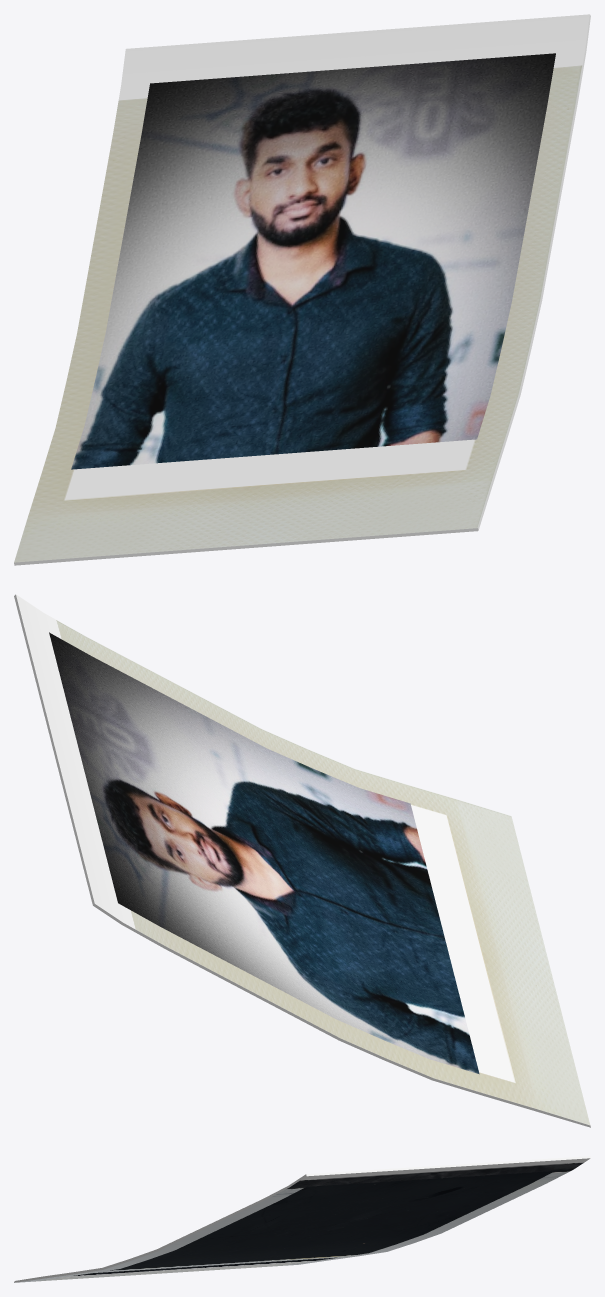
The model's file is Sketchfab_Scene.glb.
3 renders of one model, top to bottom at view 1: azimuth 30°, elevation 25°; view 2: azimuth 150°, elevation 25°; view 3: azimuth 270°, elevation 25°, orthographic. The views are drawn at different scales.
Parts seen in each view (by area): view 1: Object_3, Object_5; view 2: Object_3, Object_5; view 3: Object_4, Object_5.
Part boxes in pixels (<box>): Object_3: <box>71,53,555,469</box>; Object_5: <box>14,14,590,565</box>; Object_3: <box>49,632,479,1074</box>; Object_5: <box>14,594,590,1127</box>; Object_4: <box>95,1171,554,1272</box>; Object_5: <box>14,1156,590,1282</box>.
Size of the model in its own units: 27.2 by 18.12 by 31.5.
Materials: 3 (3 with a texture image).
